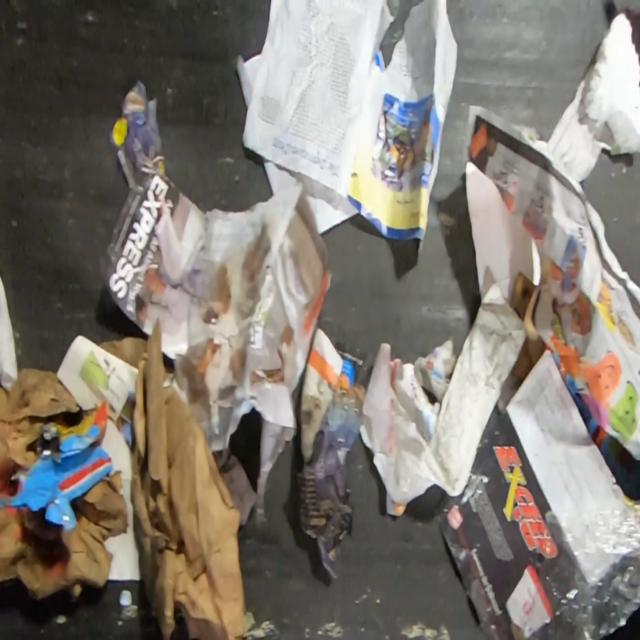cardboard: (431, 346, 620, 620), (0, 422, 114, 530), (582, 6, 640, 158)
soft_plastic: (477, 490, 640, 639)
